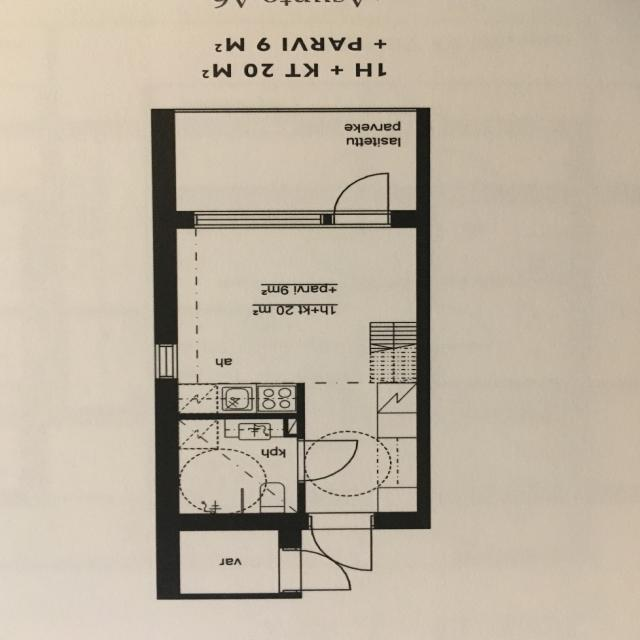door: (311, 512, 371, 574), (334, 170, 388, 228), (278, 550, 355, 590), (297, 440, 358, 480)
